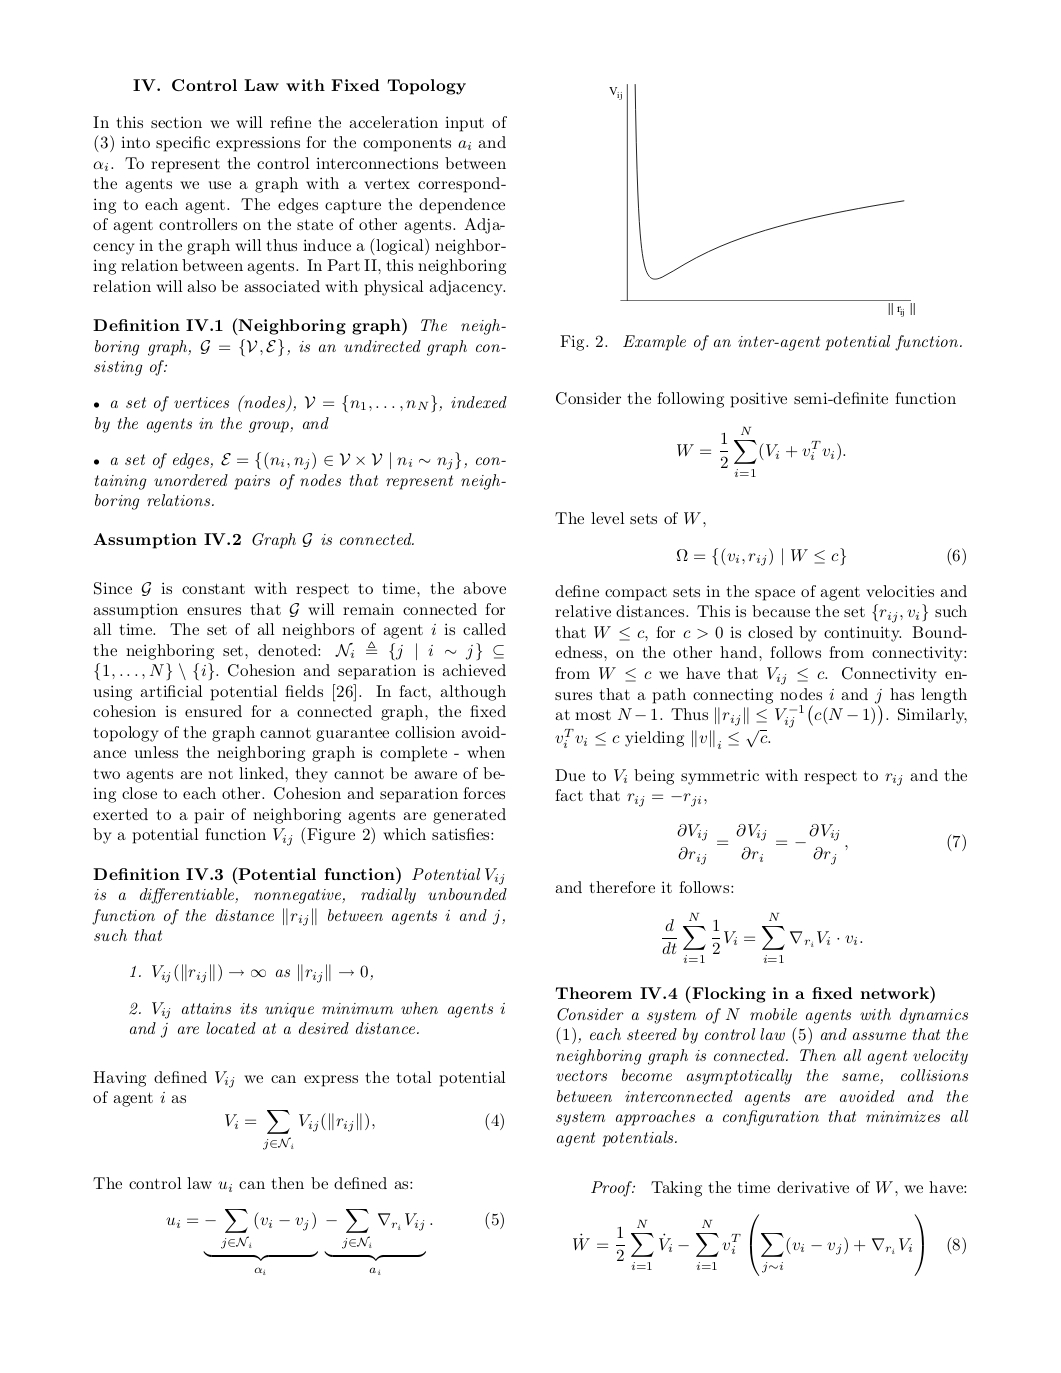figure: (609, 82, 914, 317)
formula: (573, 1213, 965, 1276), (166, 1209, 503, 1274), (676, 822, 965, 865), (225, 1110, 503, 1149), (662, 911, 862, 963), (676, 426, 845, 476), (676, 547, 965, 566)
